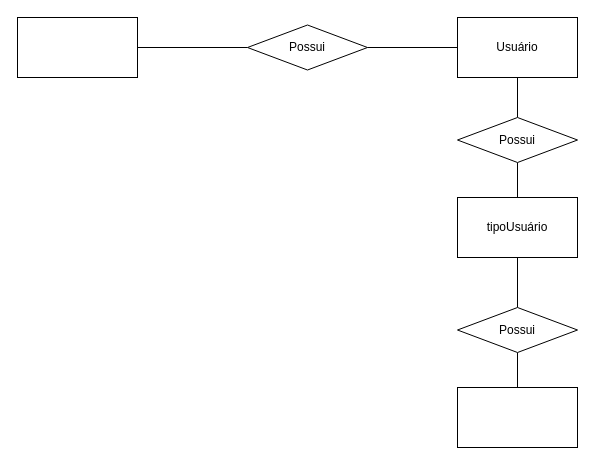
Some shapes in this 595 by 465 pixel diagram are drawn without their labels. The centre of each missing label's shape, as x and y in pixels:
Clínica: the point at 77,47
Consulta: the point at 517,417
